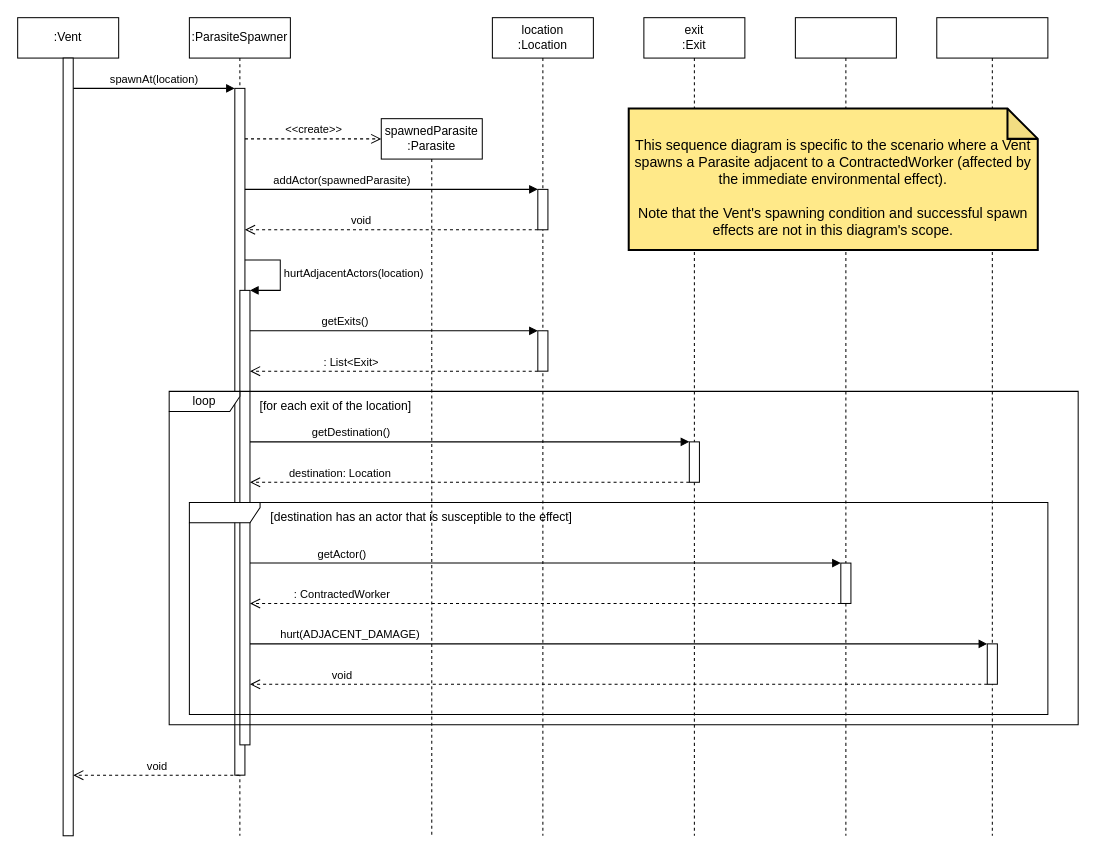
Image size: 1096x853. Some labels were removed from this diagram. The box of each missing label's shape, as (x1, y1, x2, y2) in pixels:
:ContractedWorker: (936, 17, 1048, 836)
destination :Location: (794, 17, 896, 836)
opt: (188, 501, 1048, 715)
